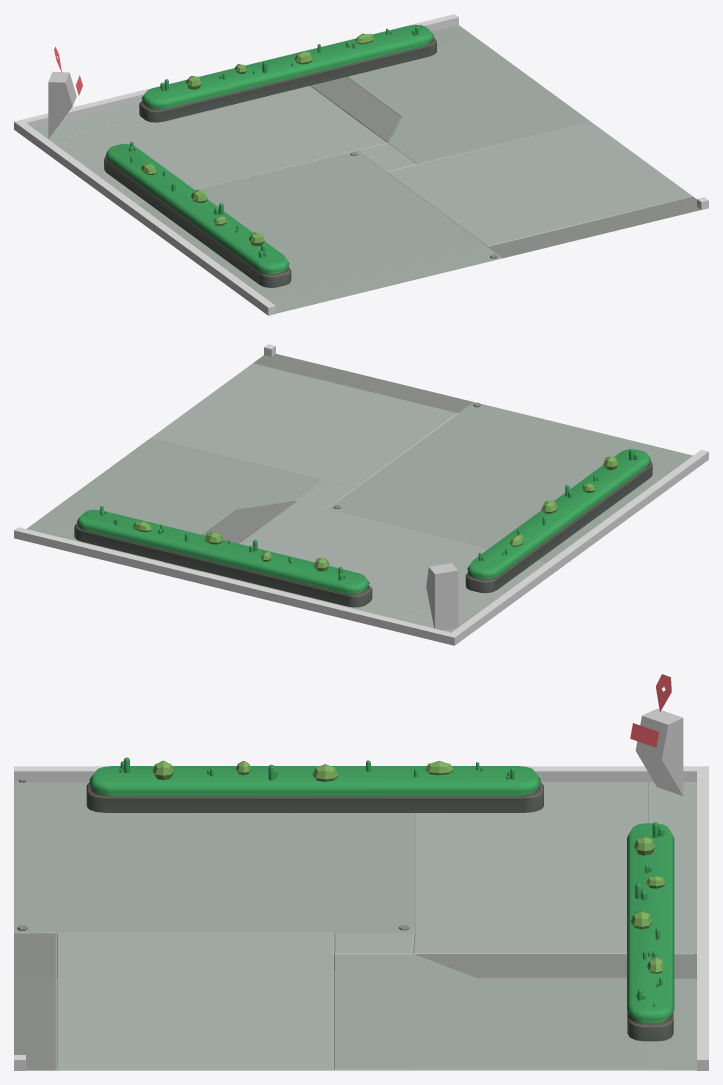
The picture shows the model from 3 angles, top to bottom: view 1: azimuth 30°, elevation 25°; view 2: azimuth 150°, elevation 25°; view 3: azimuth 270°, elevation 25°; orthographic projection. The views are drawn at different scales.
Visible parts, largest first — view 1: Scifi_Panel_04_Plaza014_group4.016_Scifi_Panel_04_Plaza014_g, TreePatch_Plaza014_group3.033_TreePatch_Plaza014_group3.031, TreePatch_Plaza014_group3.032_TreePatch_Plaza014_group3.030, Cube.649_Cube.769, panel.011_panel.018; view 2: Scifi_Panel_04_Plaza014_group4.016_Scifi_Panel_04_Plaza014_g, TreePatch_Plaza014_group3.033_TreePatch_Plaza014_group3.031, Cube.649_Cube.769, TreePatch_Plaza014_group3.032_TreePatch_Plaza014_group3.030, panel.011_panel.018; view 3: Scifi_Panel_04_Plaza014_group4.016_Scifi_Panel_04_Plaza014_g, TreePatch_Plaza014_group3.032_TreePatch_Plaza014_group3.030, TreePatch_Plaza014_group3.033_TreePatch_Plaza014_group3.031, Cube.649_Cube.769, panel.011_panel.018.
Part boxes in pixels (x1,y1,x2,y2): Scifi_Panel_04_Plaza014_group4.016_Scifi_Panel_04_Plaza014_g: (34, 25, 700, 313); TreePatch_Plaza014_group3.033_TreePatch_Plaza014_group3.031: (139, 24, 436, 122); TreePatch_Plaza014_group3.032_TreePatch_Plaza014_group3.030: (104, 143, 291, 287); Cube.649_Cube.769: (14, 14, 458, 315); panel.011_panel.018: (48, 47, 82, 138); Scifi_Panel_04_Plaza014_group4.016_Scifi_Panel_04_Plaza014_g: (27, 354, 692, 632); TreePatch_Plaza014_group3.033_TreePatch_Plaza014_group3.031: (74, 509, 372, 607); Cube.649_Cube.769: (14, 450, 708, 645); TreePatch_Plaza014_group3.032_TreePatch_Plaza014_group3.030: (465, 449, 652, 593); panel.011_panel.018: (426, 563, 458, 630); Scifi_Panel_04_Plaza014_group4.016_Scifi_Panel_04_Plaza014_g: (14, 779, 696, 1070); TreePatch_Plaza014_group3.032_TreePatch_Plaza014_group3.030: (86, 766, 543, 812); TreePatch_Plaza014_group3.033_TreePatch_Plaza014_group3.031: (627, 823, 674, 1041); Cube.649_Cube.769: (14, 766, 708, 1070); panel.011_panel.018: (630, 674, 683, 795).
Bounding box in the file's own units: 10 × 1.89 × 10.
